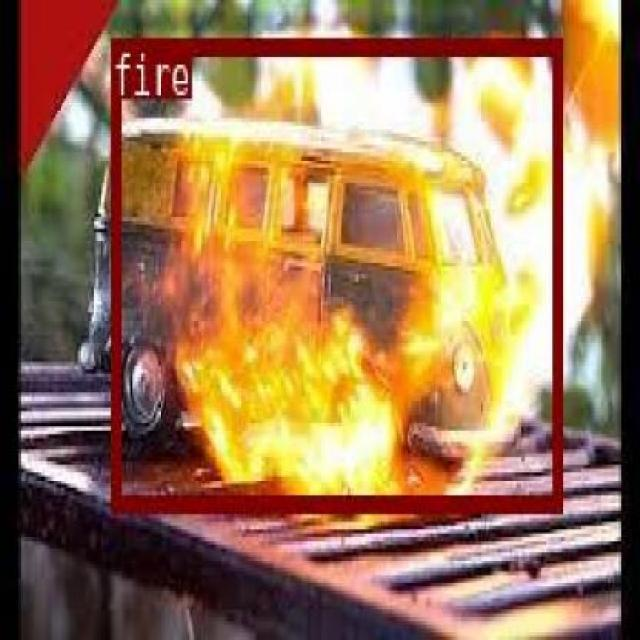Fire: (111, 35, 560, 508)
